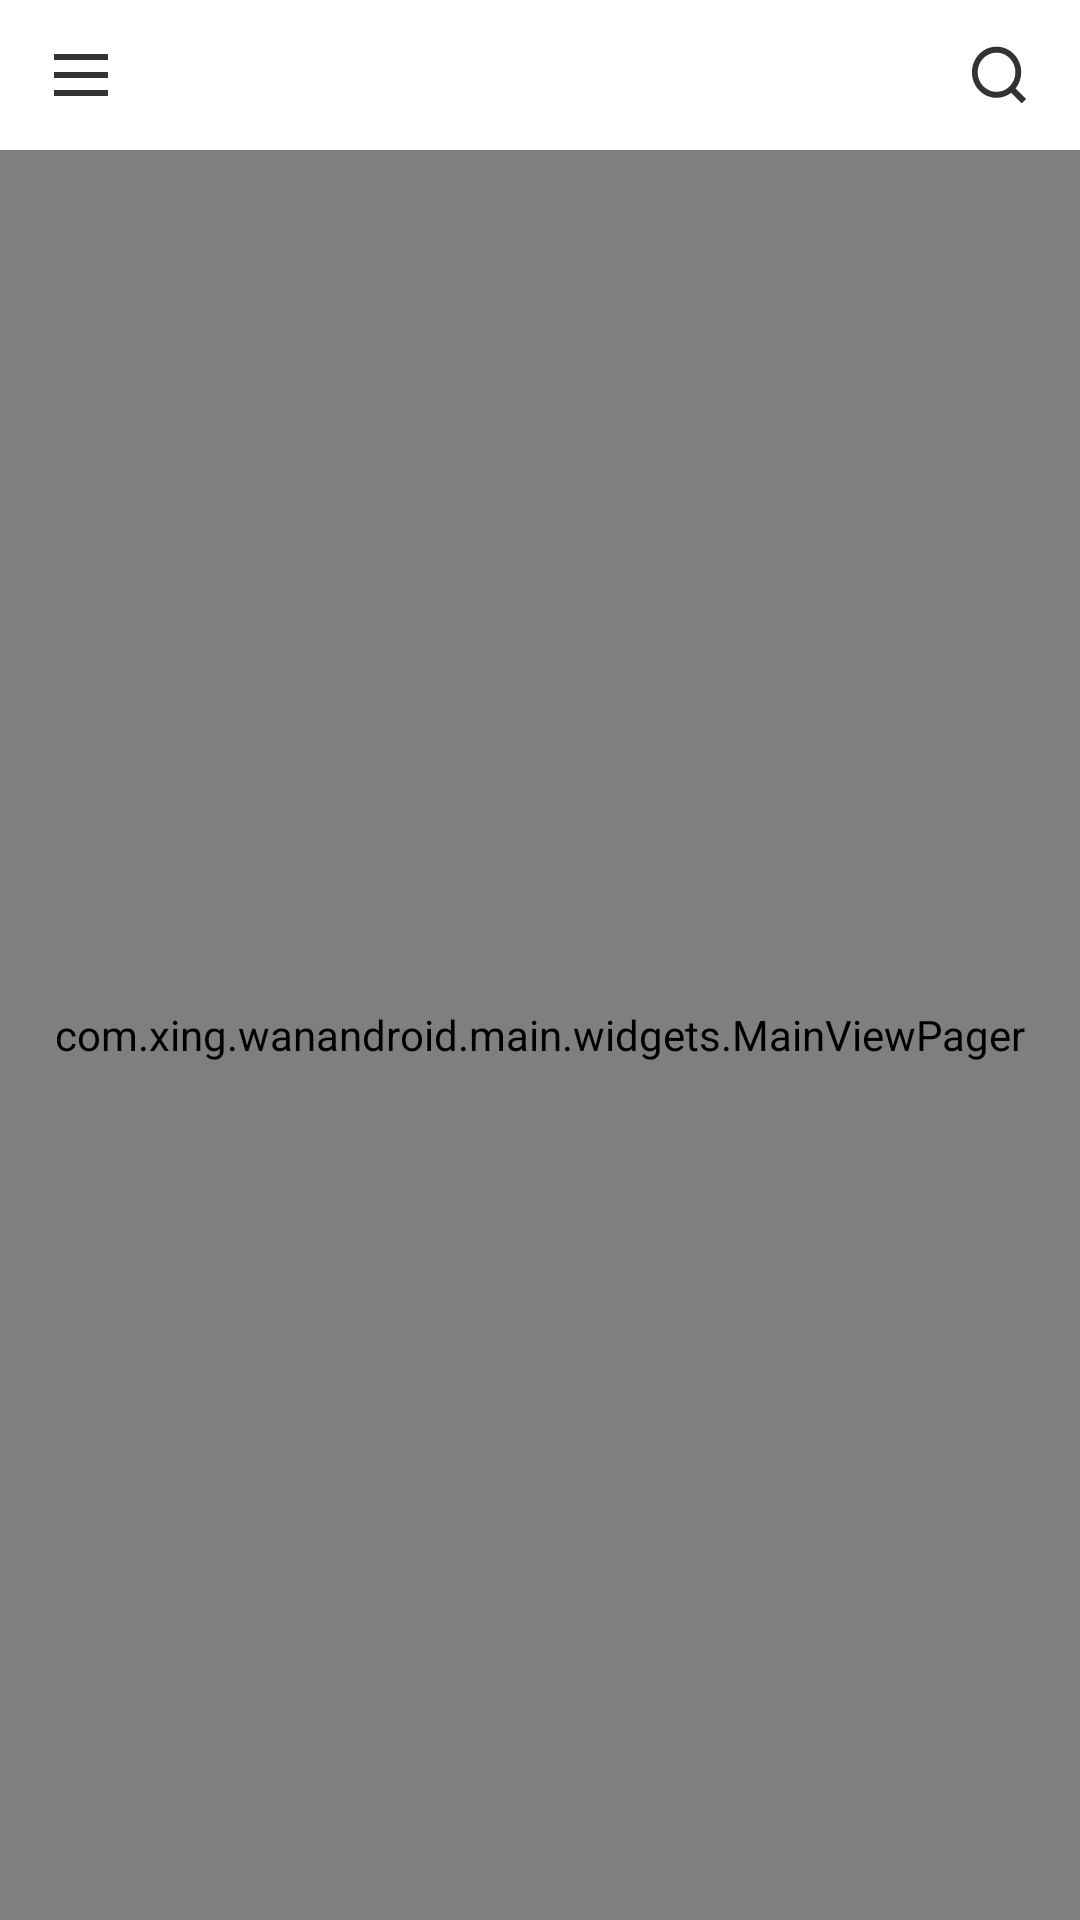

Screen size 1080x1920. Icon name, then its center in pixels as point (x, y):
menu: point (81, 75)
search: point (999, 75)
